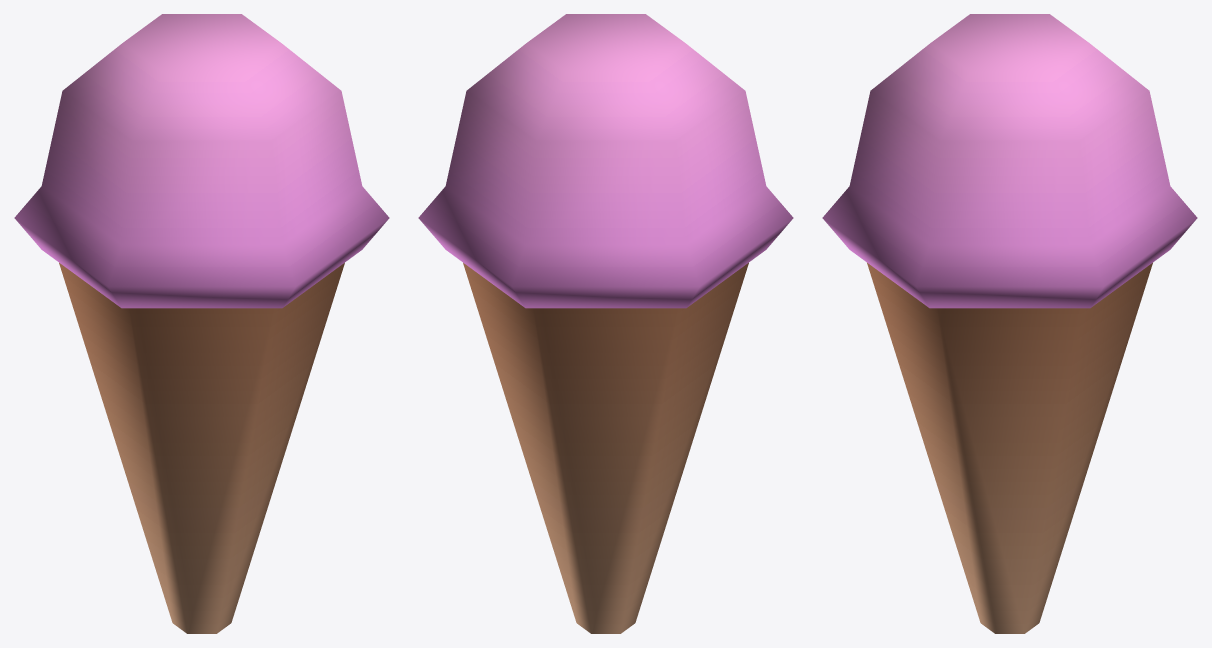
Rendered from food_icecream.glb.
The picture shows the model from 3 angles, left to right: view 1: azimuth 30°, elevation 25°; view 2: azimuth 150°, elevation 25°; view 3: azimuth 270°, elevation 25°; orthographic projection.
Visible parts, largest first — view 1: Group; view 2: Group; view 3: Group.
Part boxes in pixels (x1,y1,x2,y2): Group: (14, 14, 389, 633); Group: (418, 14, 793, 633); Group: (822, 14, 1197, 633).
Bounding box in the file's own units: 0.0813 × 0.16 × 0.0938.
Materials: 1 (1 with a texture image).
